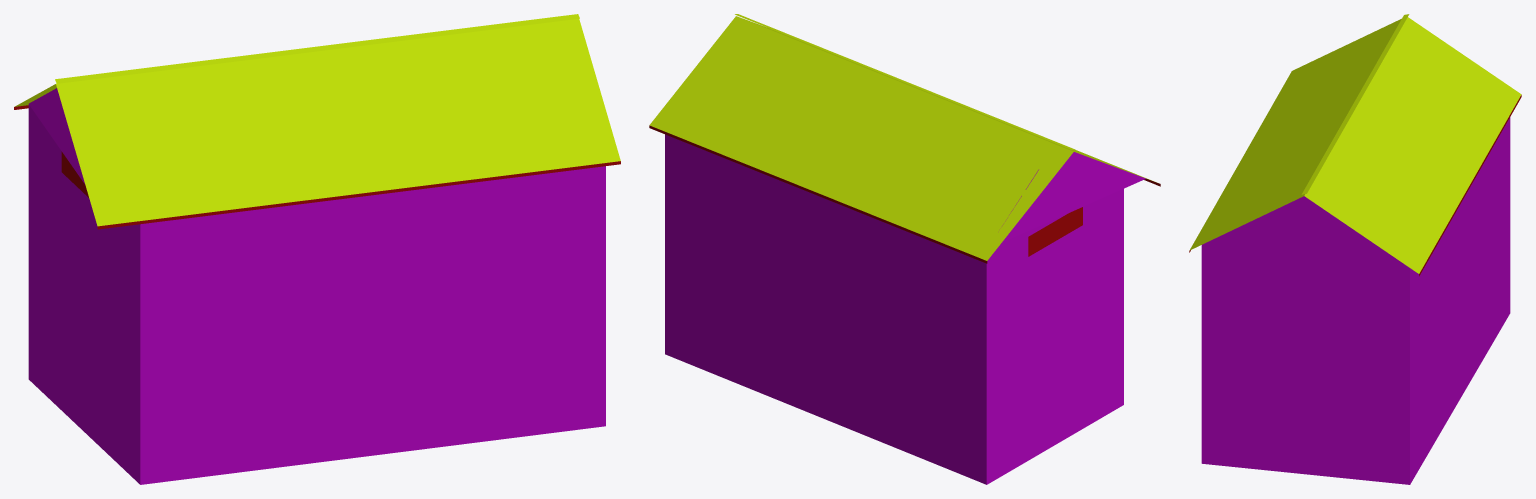
The model's file is bgj_296.glb.
3 renders of one model, left to right at view 1: azimuth 30°, elevation 25°; view 2: azimuth 150°, elevation 25°; view 3: azimuth 270°, elevation 25°, orthographic. The views are drawn at different scales.
Visible parts, largest first — view 1: bgj_296; view 2: bgj_296; view 3: bgj_296.
Part boxes in pixels (x1,y1,x2,y2): bgj_296: [14, 14, 620, 484]; bgj_296: [649, 14, 1160, 484]; bgj_296: [1189, 14, 1521, 484].
Size of the model in its own units: 20.65 by 13.49 by 14.27.
